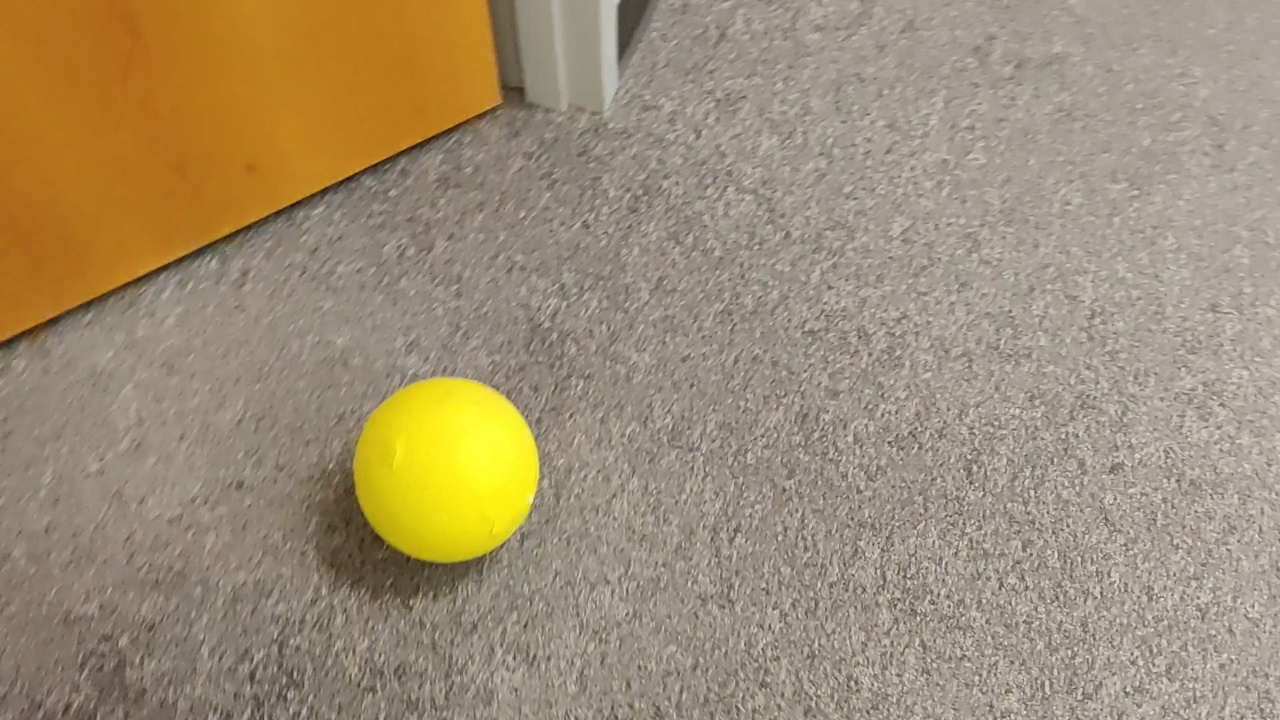Ball: (351, 377, 551, 581)
